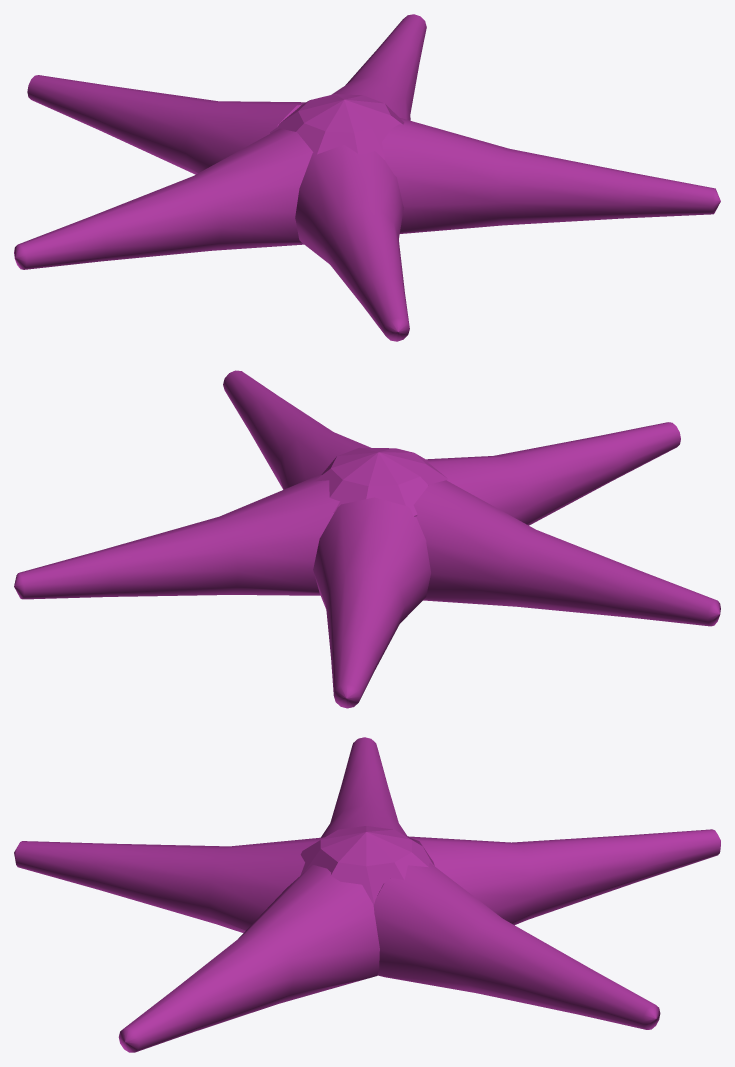
The model's file is starfish_pink.fbx.
3 views of the same model, one above another, from view 1: azimuth 30°, elevation 25°; view 2: azimuth 150°, elevation 25°; view 3: azimuth 270°, elevation 25° (orthographic). The views are drawn at different scales.
Parts seen in each view (by area): view 1: pCone6; view 2: pCone6; view 3: pCone6.
Part boxes in pixels (left/top/right/bottom): pCone6: left=14, top=14, right=720, bottom=341; pCone6: left=14, top=370, right=720, bottom=708; pCone6: left=14, top=737, right=720, bottom=1052.
Bounding box in the file's own units: 10.51 × 2.18 × 10.61.
